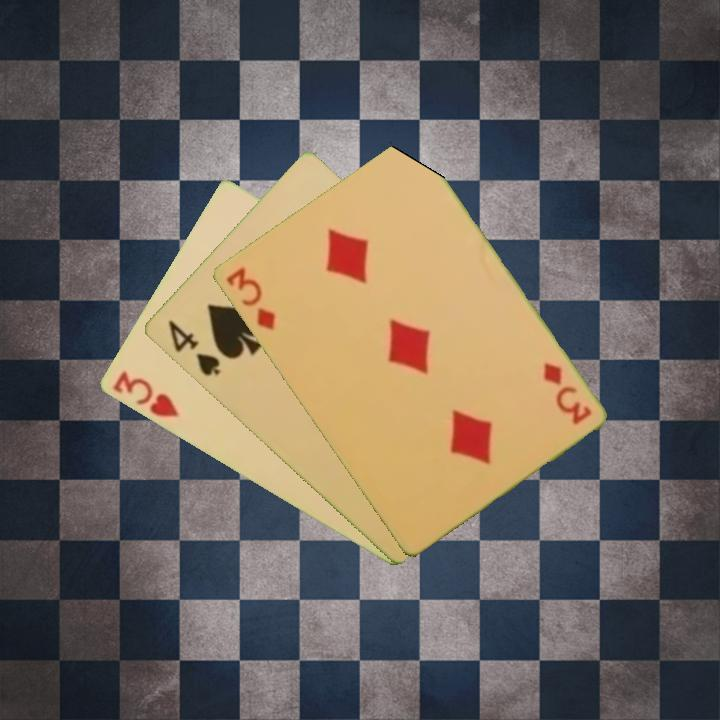3d: (221, 263, 278, 333), (539, 359, 594, 428)
3h: (109, 367, 182, 421)
4s: (163, 316, 223, 379)
